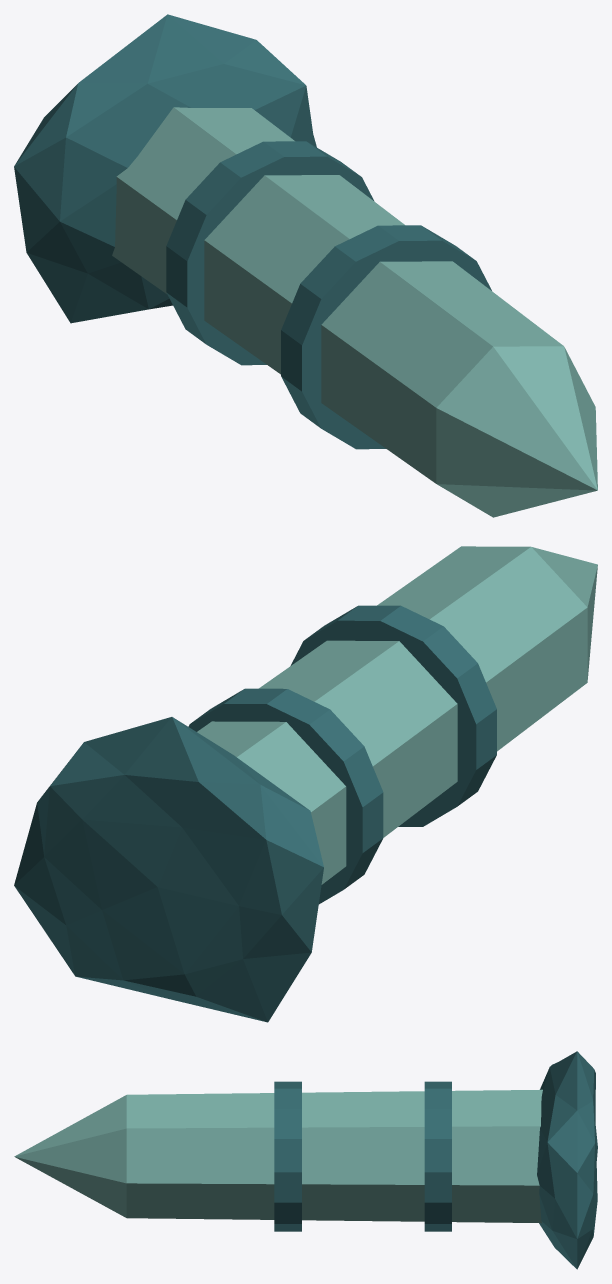
File: aiguille.glb
The picture shows the model from 3 angles, top to bottom: view 1: azimuth 30°, elevation 25°; view 2: azimuth 150°, elevation 25°; view 3: azimuth 270°, elevation 25°; orthographic projection. The views are drawn at different scales.
Parts seen in each view (by area): view 1: fut, pied, bague.001, bague; view 2: pied, fut, bague.001, bague; view 3: fut, pied, bague.001, bague.
Part boxes in pixels (<box>): fut: <box>112,107,597,517</box>; pied: <box>14,14,316,323</box>; bague.001: <box>281,225,491,449</box>; bague: <box>166,141,374,365</box>; pied: <box>14,717,323,1022</box>; fut: <box>197,546,597,884</box>; bague.001: <box>290,605,496,826</box>; bague: <box>188,688,383,904</box>; fut: <box>14,1089,542,1223</box>; pied: <box>537,1051,597,1269</box>; bague.001: <box>274,1081,301,1231</box>; bague: <box>424,1081,451,1231</box>.
Size of the model in its own units: 1.89 by 1.65 by 4.67.
